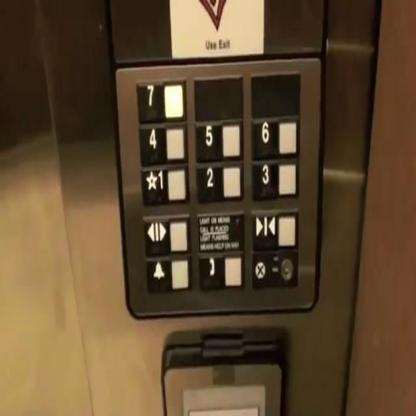2: (193, 156, 244, 202)
3: (251, 159, 301, 200)
4: (138, 118, 188, 165)
5: (193, 116, 244, 163)
6: (251, 116, 300, 160)
7: (135, 75, 186, 124)
alarm: (144, 252, 194, 295)
call: (197, 249, 245, 292)
close: (249, 207, 299, 252)
open: (141, 211, 193, 259)
s1: (138, 160, 189, 206)
stop: (250, 246, 299, 290)
